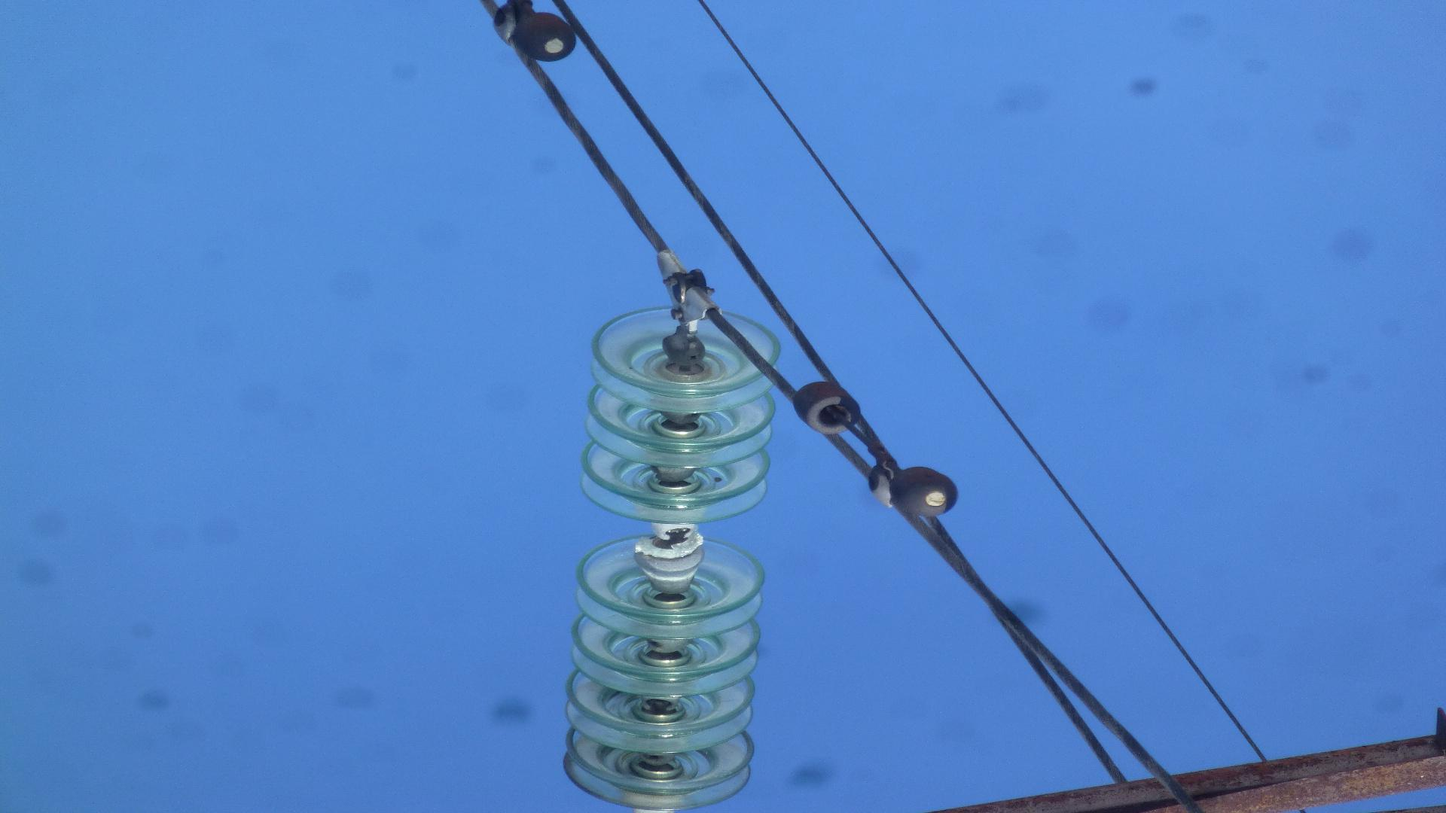insulator: (557, 303, 787, 813)
insulator_stringdrop: (568, 440, 777, 645)
